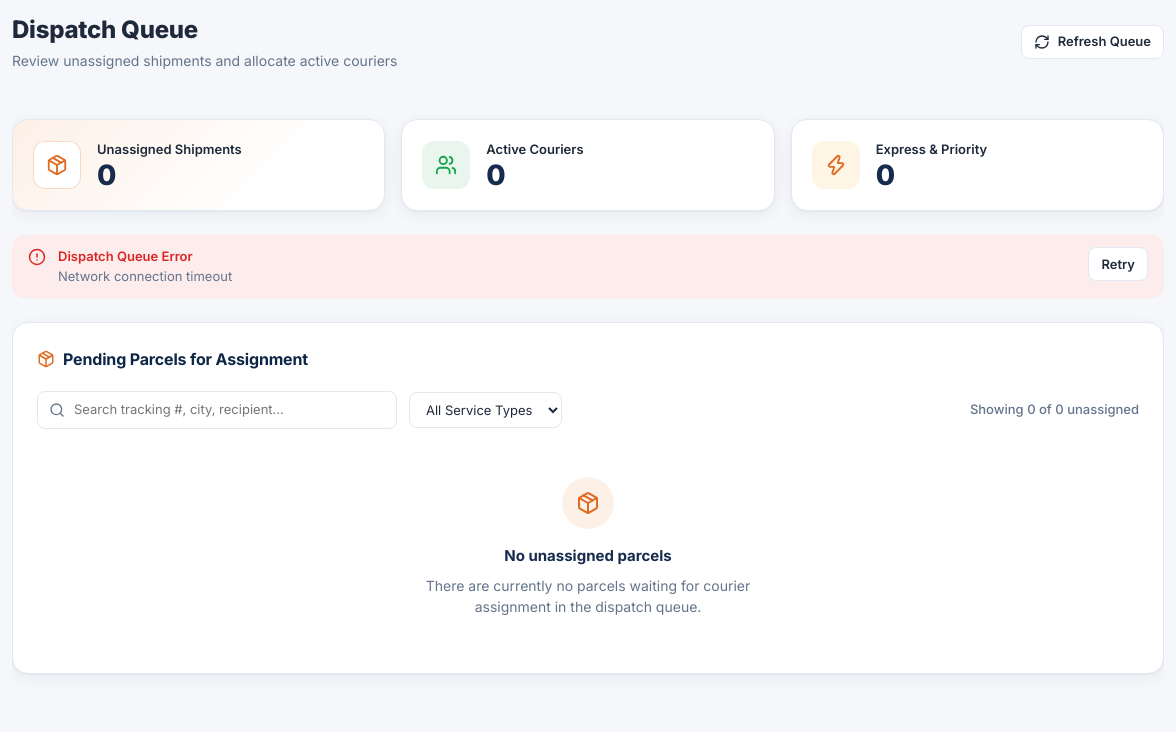
Scenario: Dispatch Management Page & Assignment Modal - Component Tests › 3. Displays error banner when fetching queue fails, and allows retry
The width and height of the screenshot is (1176, 732).
Expected: the text "Dispatch Queue Error" is shown, [58,248,193,264]
Expected: the text "Network connection timeout" is shown, [58,268,232,284]
Click the button "Retry": (1118, 264) [1088,247,1148,281]
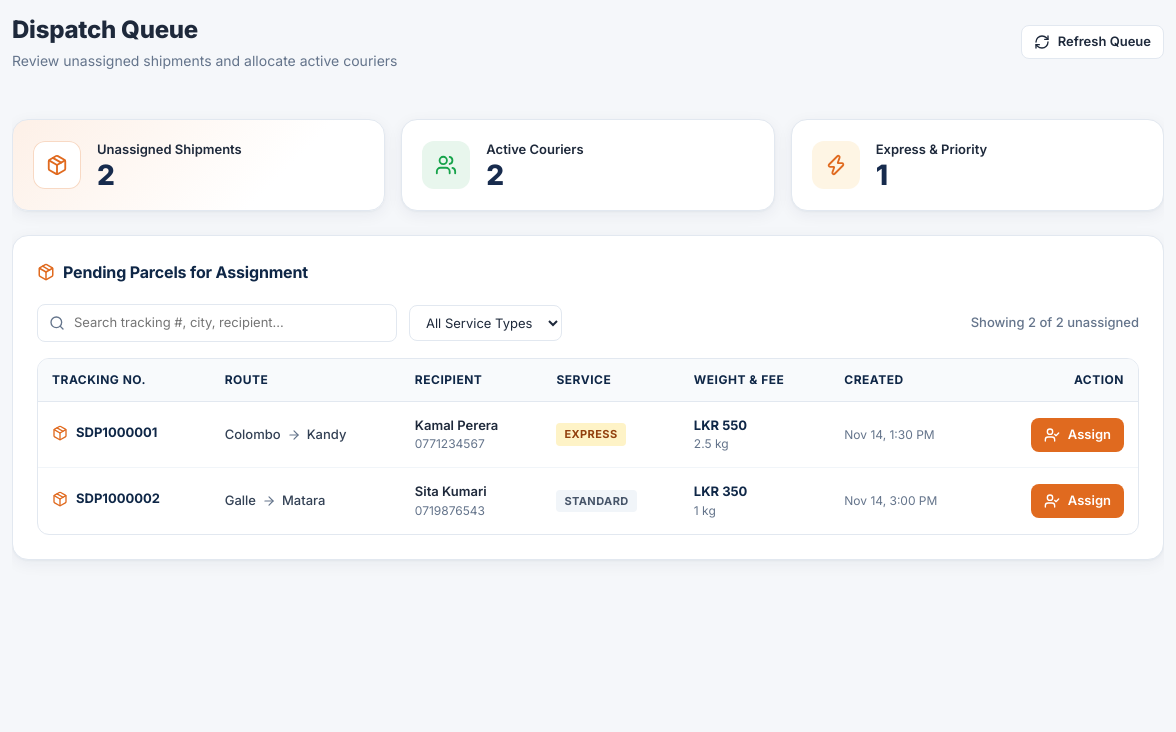
Result: the text "SDP1000001" is shown at [52,423,157,442]
